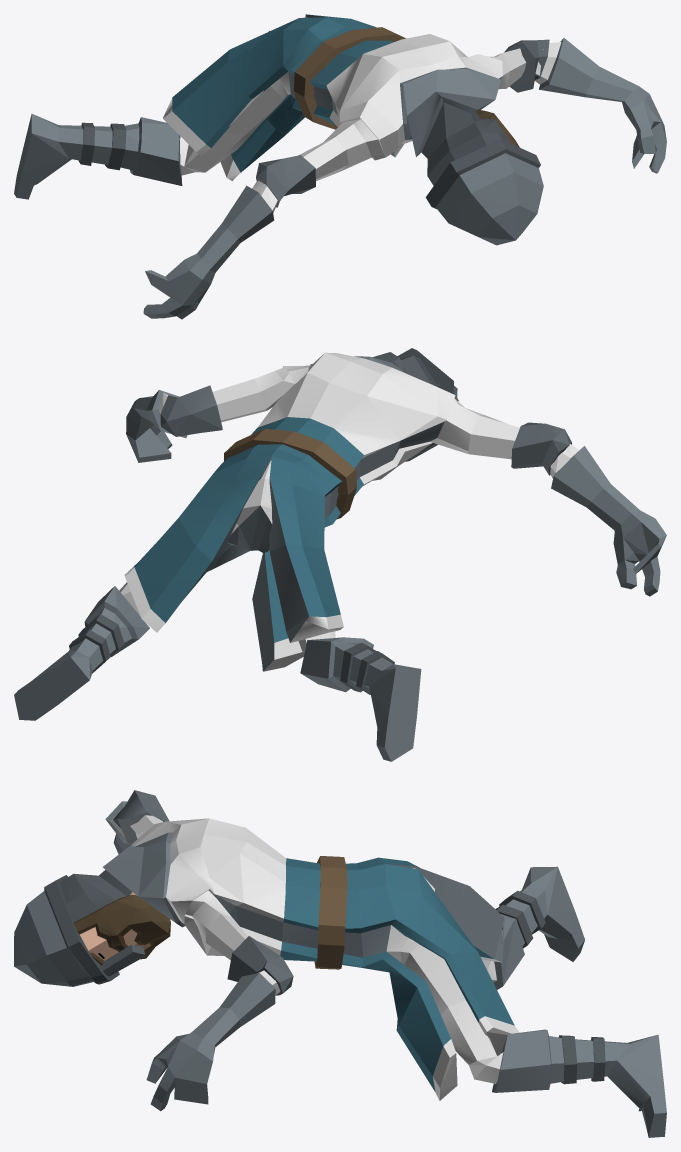
Rendered from SM_Dead_Soldier_03.fbx.
The picture shows the model from 3 angles, top to bottom: view 1: azimuth 30°, elevation 25°; view 2: azimuth 150°, elevation 25°; view 3: azimuth 270°, elevation 25°; orthographic projection. The views are drawn at different scales.
Visible parts, largest first — view 1: SM_Dead_Soldier_03; view 2: SM_Dead_Soldier_03; view 3: SM_Dead_Soldier_03.
Part boxes in pixels (<box>): SM_Dead_Soldier_03: <box>14,14,666,319</box>; SM_Dead_Soldier_03: <box>14,348,666,761</box>; SM_Dead_Soldier_03: <box>14,790,666,1137</box>.
Size of the model in its own units: 158 by 67.47 by 164.
